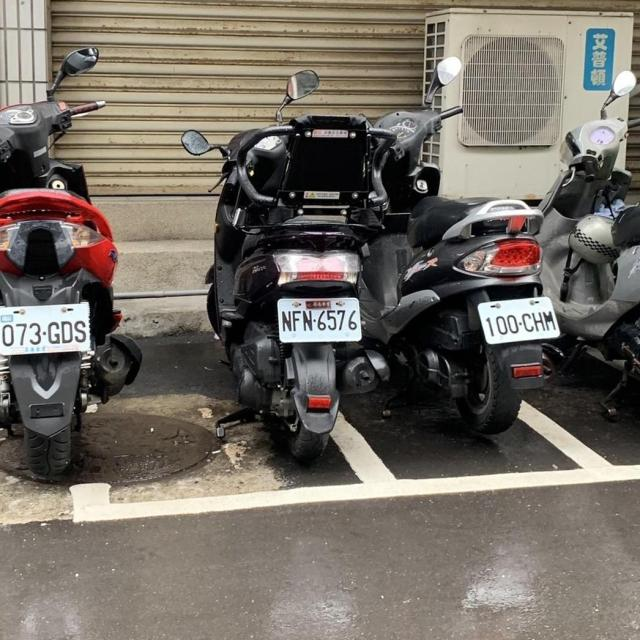W: (0, 300, 94, 360), (472, 291, 565, 345), (273, 295, 366, 345)
